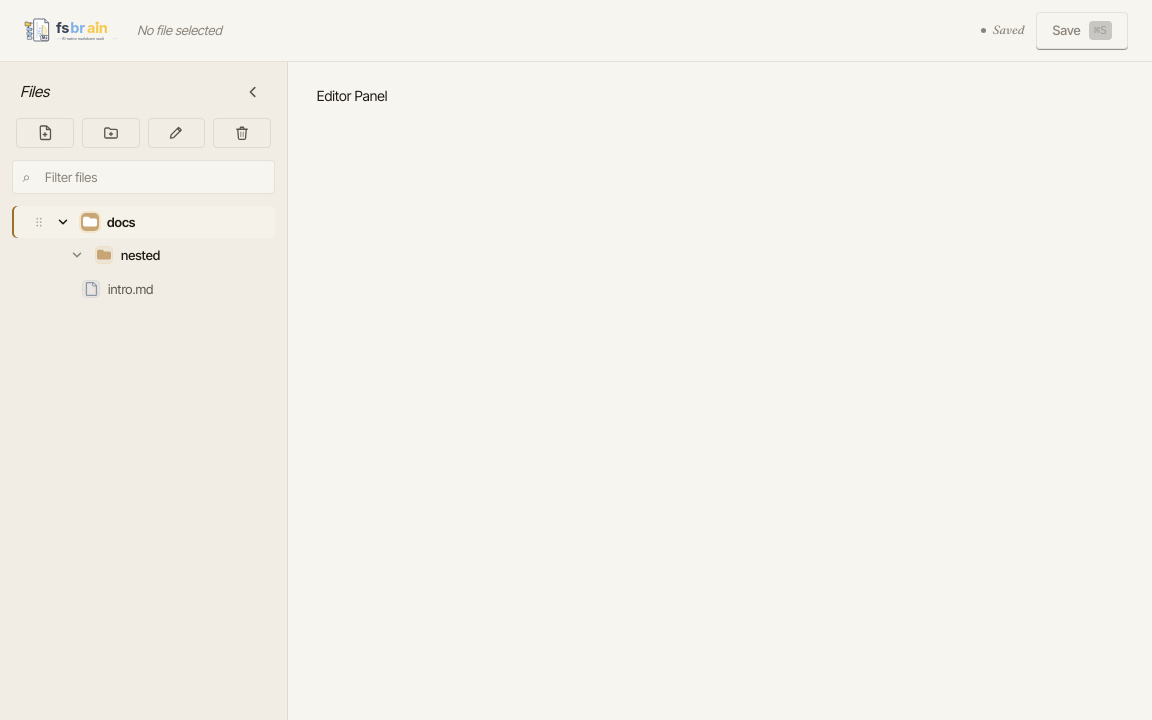
Scenario: GlobalLayout › collapses a folder and hides its children when clicked
Expected: the list item "nested" is shown, [70,246,160,264]
Expected: the list item "intro.md" is shown, [82,280,153,298]
Note: Click docs to collapse it
Click the list item "docs".
click(84, 222)  # box [32,213,136,231]
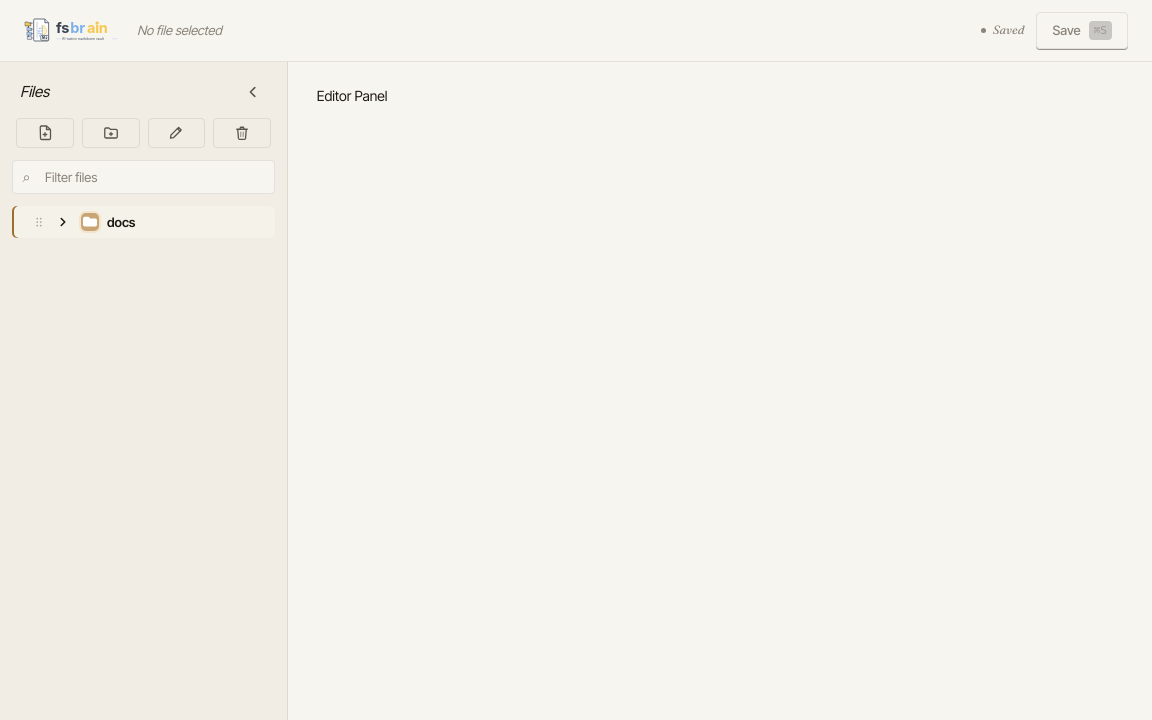
Now the text "nested" is gone
Now the text "intro.md" is gone
